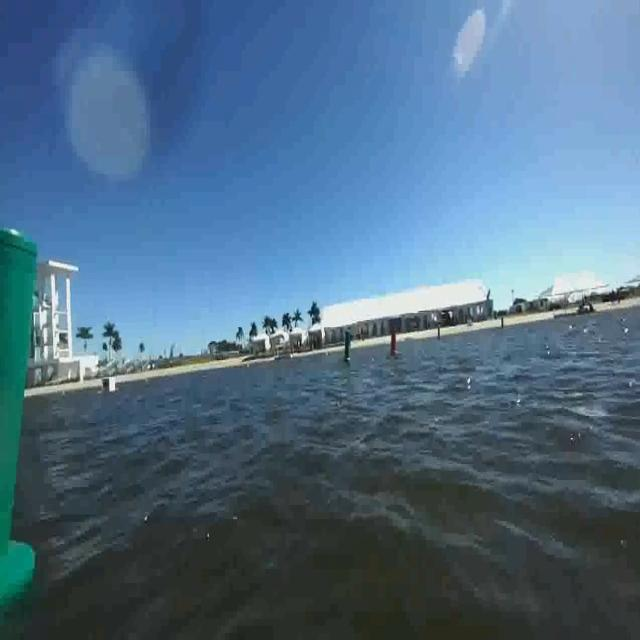green-column-buoy: (0, 210, 46, 622), (342, 329, 354, 364)
